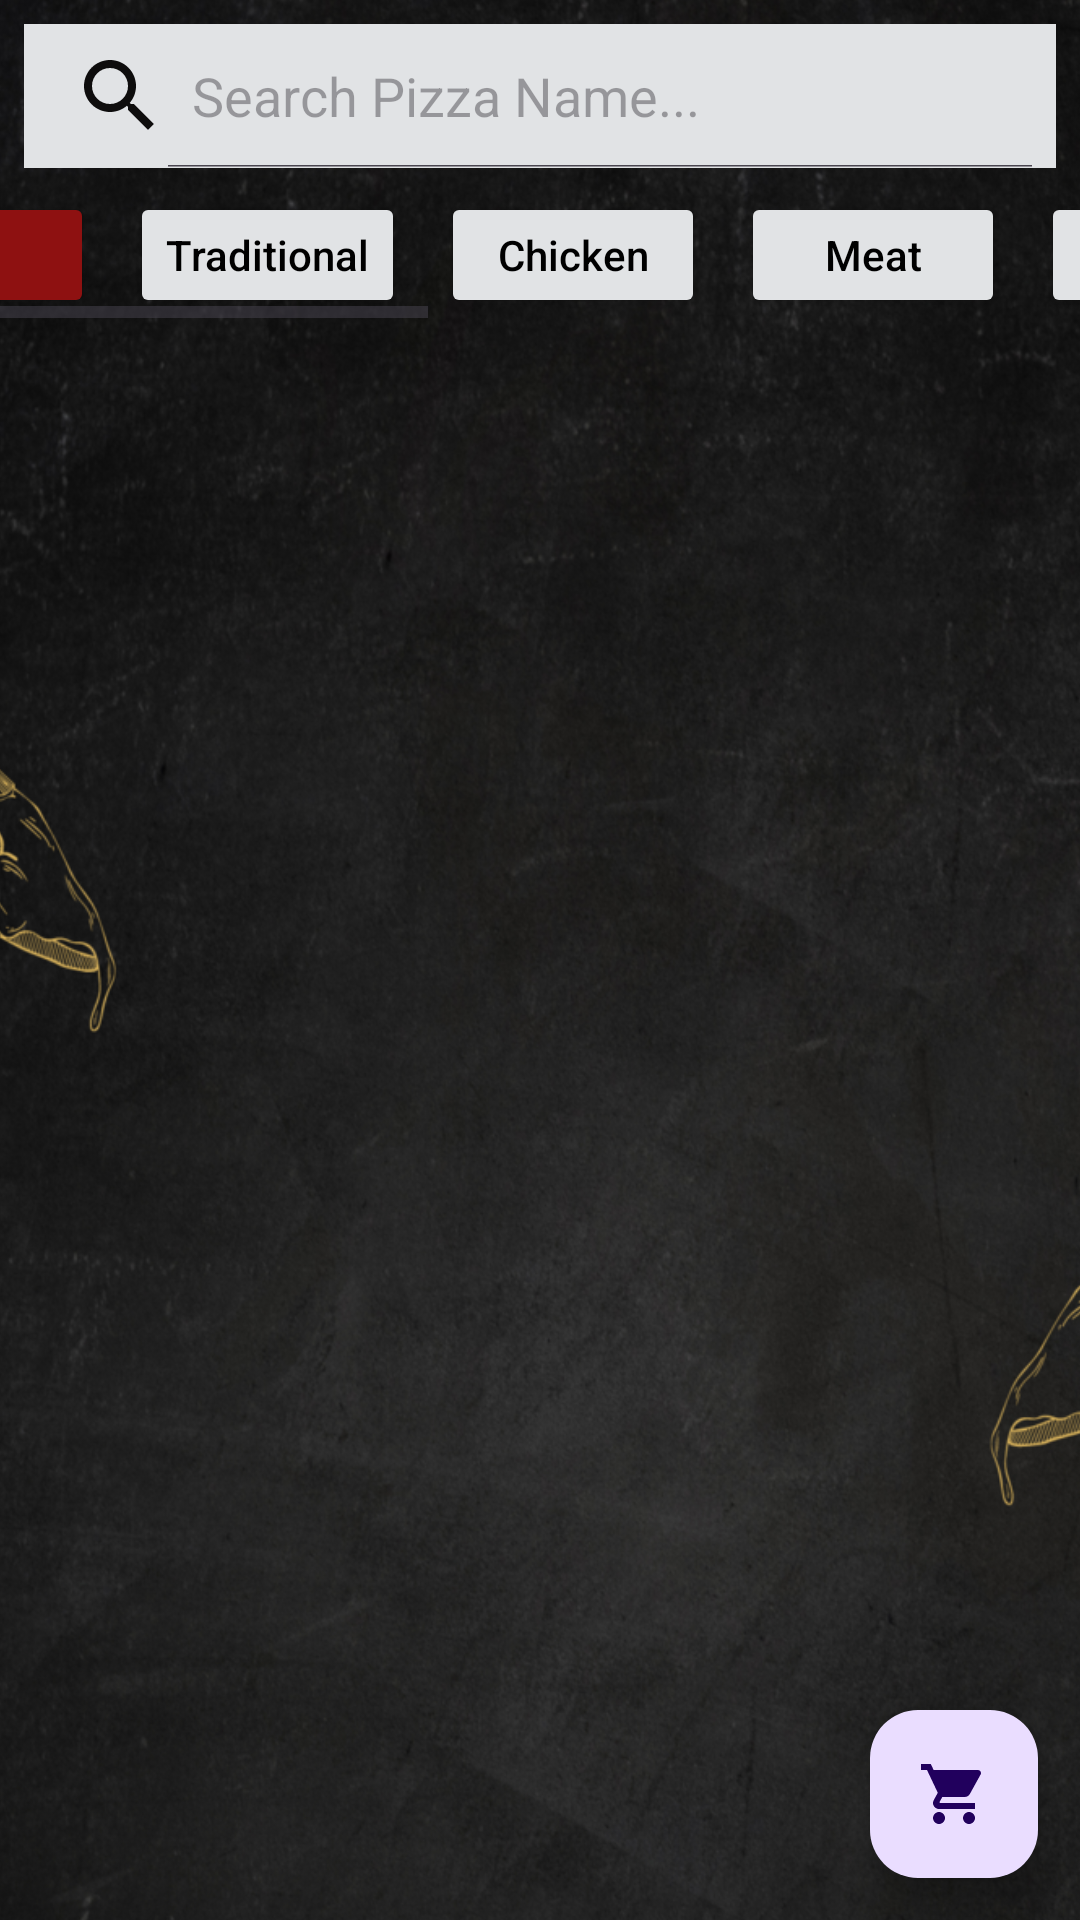

Locate icon controls on the screen. Image size 1080*1920, boxes as detection(x1, y1, x2, y2).
shopping cart: detection(870, 1710, 1038, 1878)
